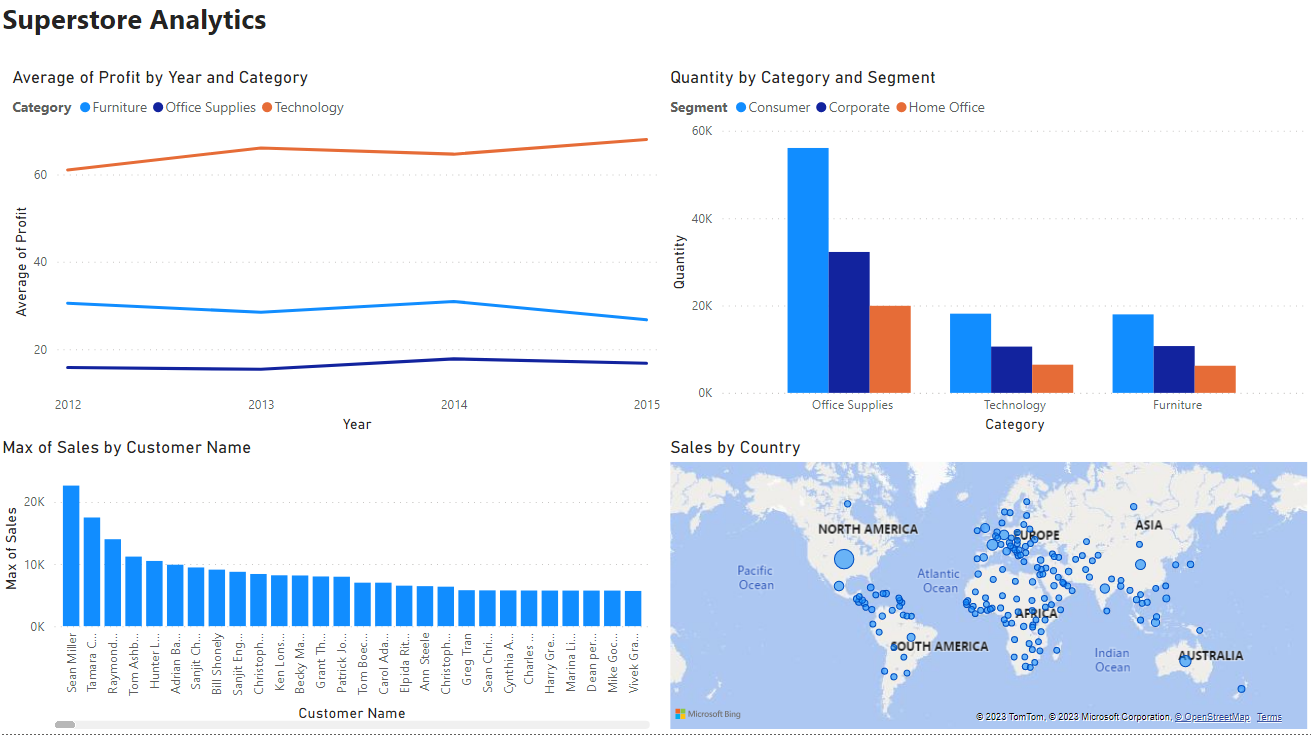

This screenshot's page, from the dashboard's own definition file:
{"tool":"powerbi","page":{"name":"Page 1","canvas":[1280,720],"ordinal":0},"visuals":[{"type":"lineChart","fields":{"Y":["Avg(Orders.Profit)"],"Category":["Orders.Order Date.Variation.Date Hierarchy.Year","Orders.Order Date.Variation.Date Hierarchy.Quarter","Orders.Order Date.Variation.Date Hierarchy.Month","Orders.Order Date.Variation.Date Hierarchy.Day"],"Series":["Orders.Category"]},"box":[9.7,71,640,359.9],"z":0},{"type":"clusteredColumnChart","fields":{"Category":["Orders.Category"],"Series":["Orders.Segment"],"Y":["Sum(Orders.Quantity)"]},"box":[649.7,71,630.3,359.9],"z":1000},{"type":"clusteredColumnChart","fields":{"Y":["Max(Orders.Sales)"],"Category":["Orders.Customer Name"]},"box":[0,430.9,640,288.9],"z":2000},{"type":"map","fields":{"Category":["Orders.Country"],"Size":["Sum(Orders.Sales)"]},"box":[649.7,430.9,630.3,288.9],"z":3000},{"type":"textbox","box":[0,0,640,71],"z":4000}]}

Visuals, with their boxes in screenshot pixels (x1, y1, x2, y2), scaled from the page's 1280x720 canvas onto the 1311x735 screenshot:
lineChart - Avg(Orders.Profit) x Orders.Order Date.Variation.Date Hierarchy.Year: rect(10, 72, 665, 440)
clusteredColumnChart - Orders.Category x Orders.Segment: rect(665, 72, 1310, 440)
clusteredColumnChart - Max(Orders.Sales) x Orders.Customer Name: rect(0, 440, 656, 734)
map - Orders.Country x Sum(Orders.Sales): rect(665, 440, 1310, 734)
textbox: rect(0, 0, 656, 72)
